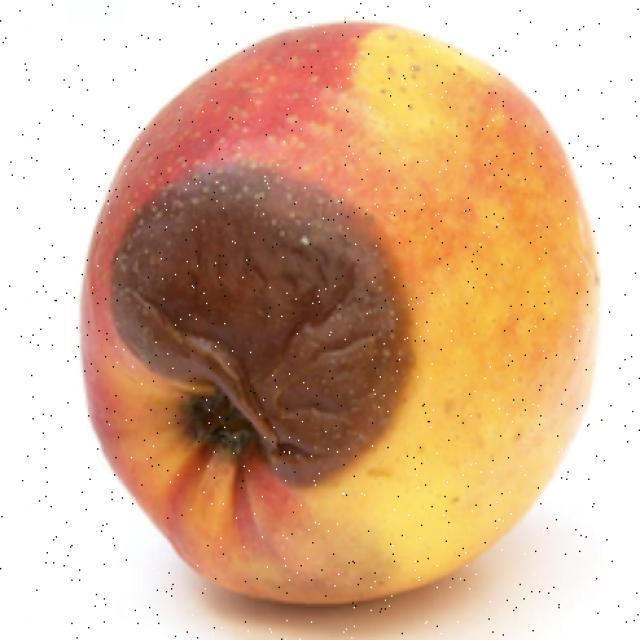Rotten: (76, 40, 586, 585)
